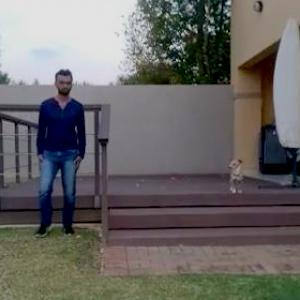follow: (37, 64, 87, 244)
